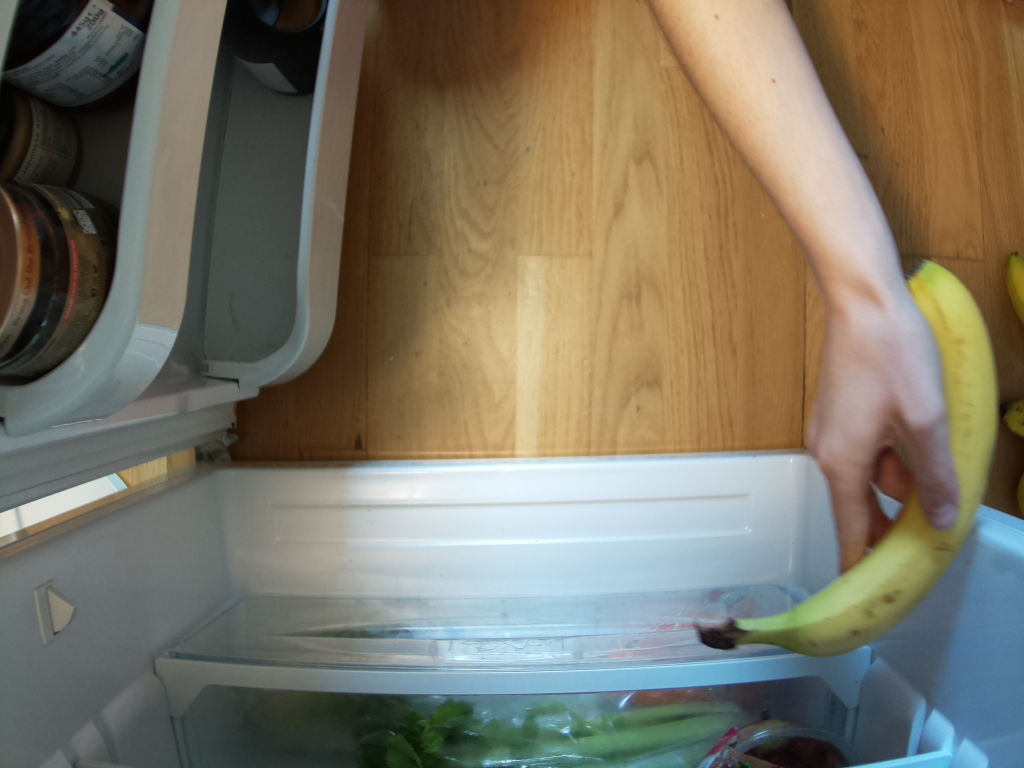banana-unripe: (691, 249, 1005, 659)
